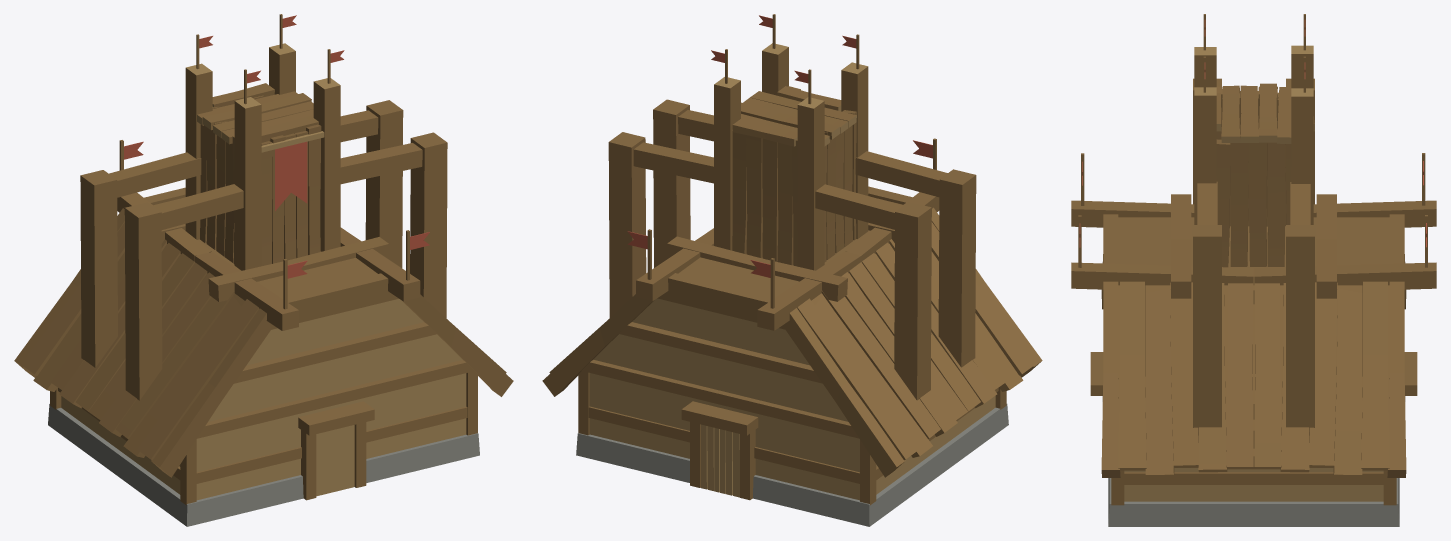
The model's file is Wooden house tower.glb.
3 renders of one model, left to right at view 1: azimuth 30°, elevation 25°; view 2: azimuth 150°, elevation 25°; view 3: azimuth 270°, elevation 25°, orthographic. The views are drawn at different scales.
Visible parts, largest first — view 1: Wooden house tower; view 2: Wooden house tower; view 3: Wooden house tower.
Part boxes in pixels (bbox=[...]): Wooden house tower: bbox=[14, 14, 513, 526]; Wooden house tower: bbox=[542, 14, 1042, 526]; Wooden house tower: bbox=[1071, 14, 1436, 526].
Size of the model in its own units: 2 by 2.12 by 1.68.
